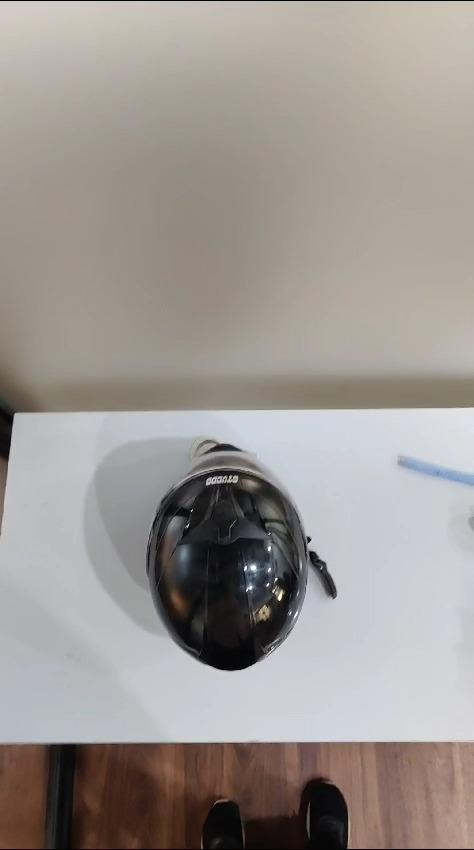Helmet: (147, 441, 335, 669)
